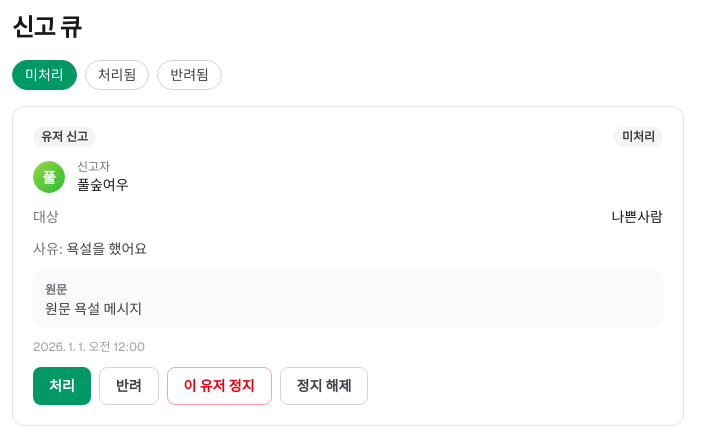
Test: ReportList › 유저 신고에는 정지 버튼이 있고, 대상 userId로 suspend를 POST한 뒤 목록을 갱신한다
Click the button "이 유저 정지": (219, 386) [166, 367, 272, 405]
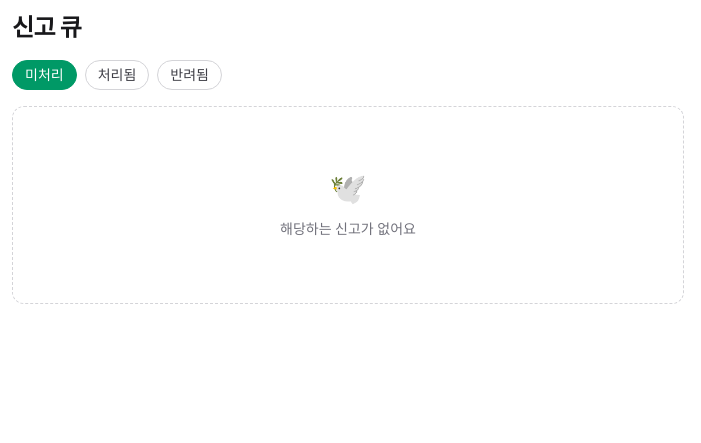
Expected: the text "해당하는 신고가 없어요" is shown, [280, 219, 416, 239]
